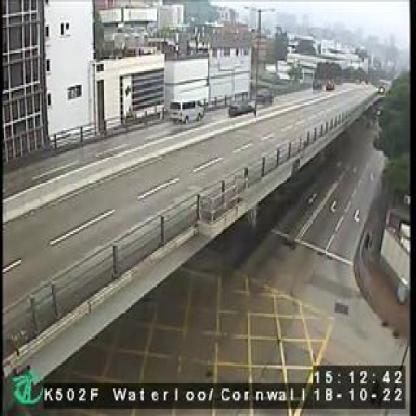Car: (168, 97, 206, 124)
